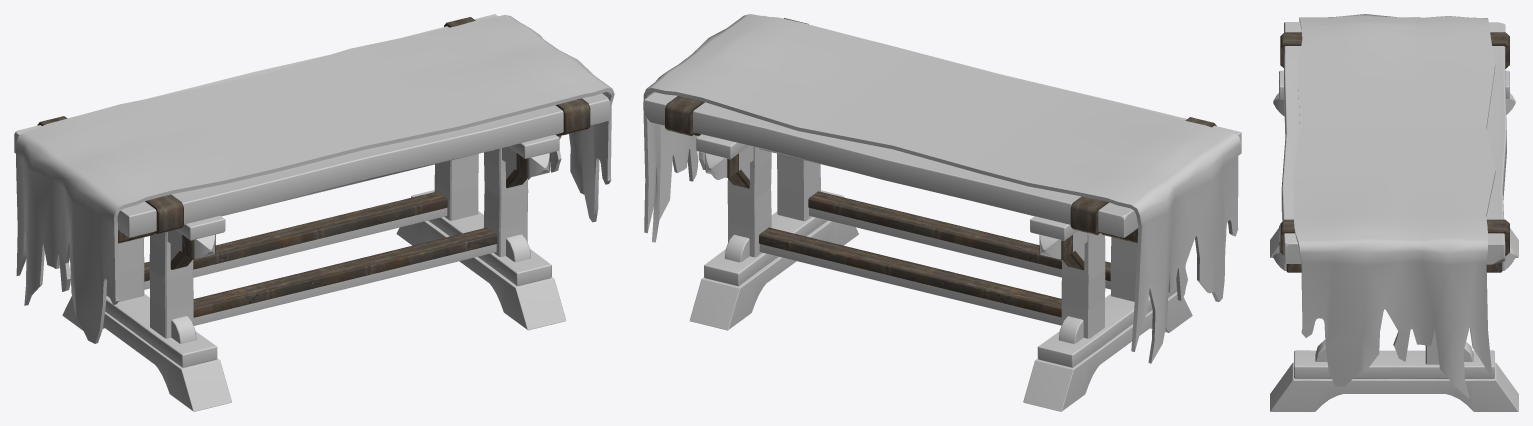
The picture shows the model from 3 angles, left to right: view 1: azimuth 30°, elevation 25°; view 2: azimuth 150°, elevation 25°; view 3: azimuth 270°, elevation 25°; orthographic projection. The views are drawn at different scales.
Visible parts, largest first — view 1: SM_DR_Table_A_02_01_LOD0; view 2: SM_DR_Table_A_02_01_LOD0; view 3: SM_DR_Table_A_02_01_LOD0.
Part boxes in pixels (<box>): SM_DR_Table_A_02_01_LOD0: <box>14,14,614,411</box>; SM_DR_Table_A_02_01_LOD0: <box>643,14,1241,411</box>; SM_DR_Table_A_02_01_LOD0: <box>1270,14,1518,411</box>.
Bounding box in the file's own units: 2.93 × 1.17 × 1.3.
